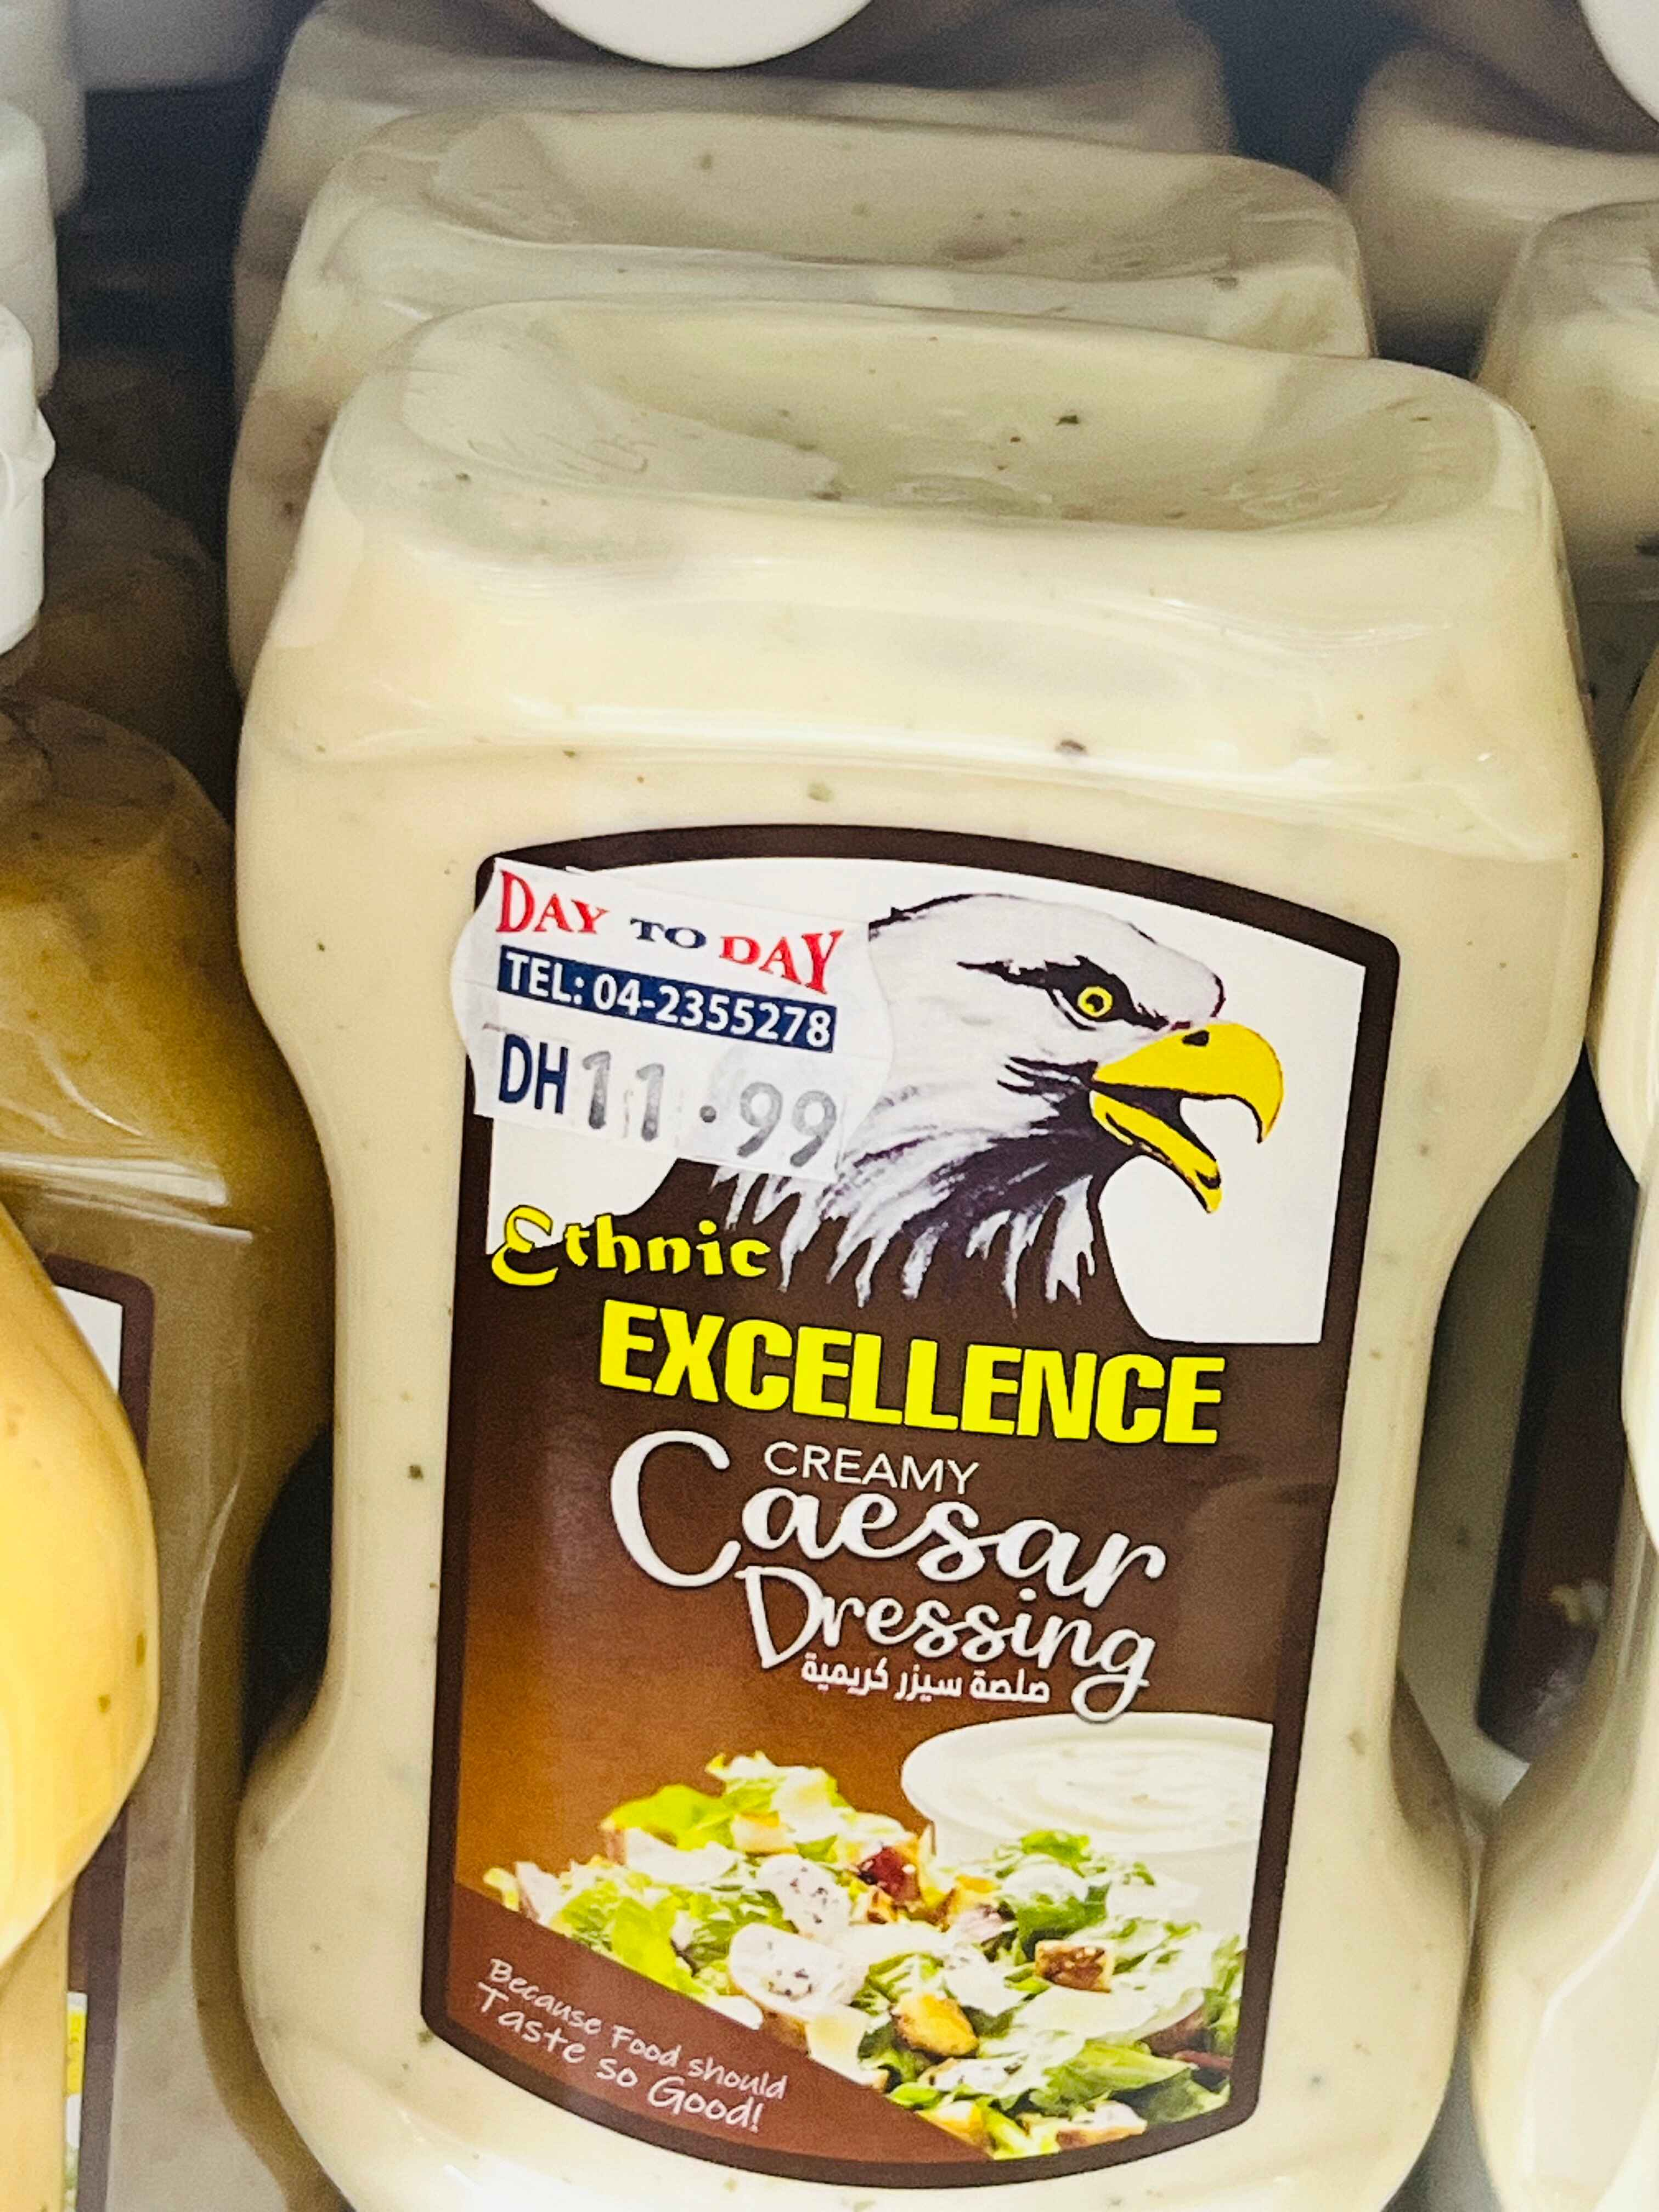PriceTagSmall: (458, 852, 896, 1191)
